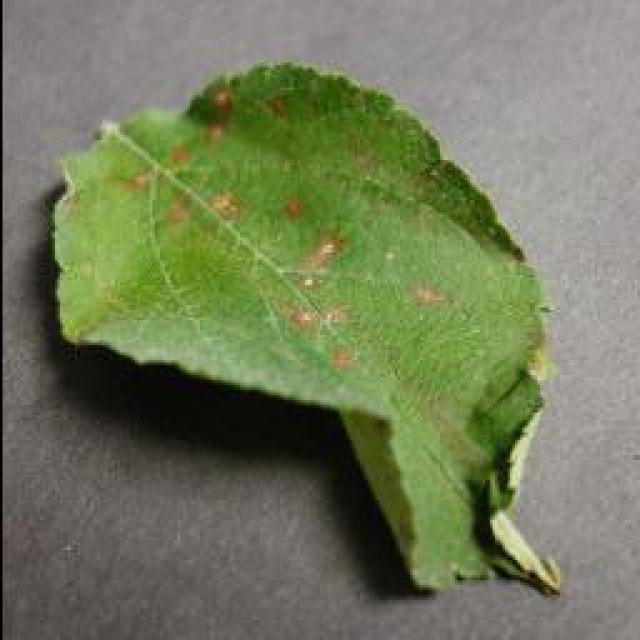Apple___Cedar_apple_rust: (45, 50, 571, 606)
